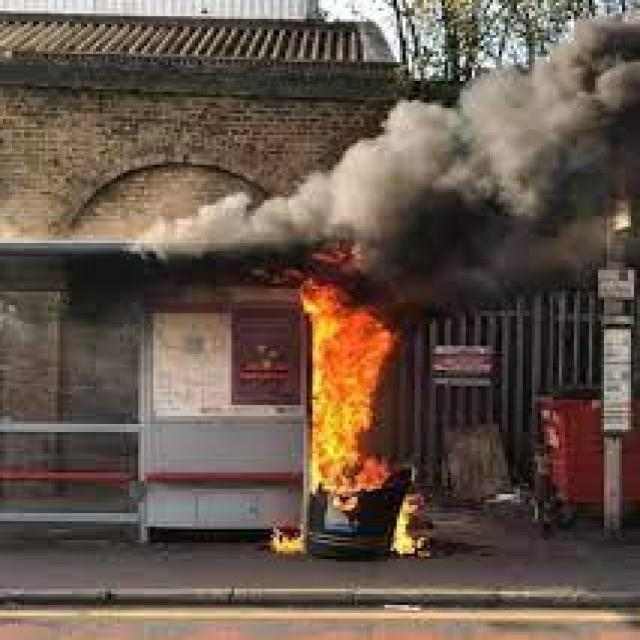Fire: (305, 266, 403, 492), (397, 494, 432, 556), (264, 514, 304, 548)
Smoke: (392, 16, 640, 261), (144, 142, 386, 254)
